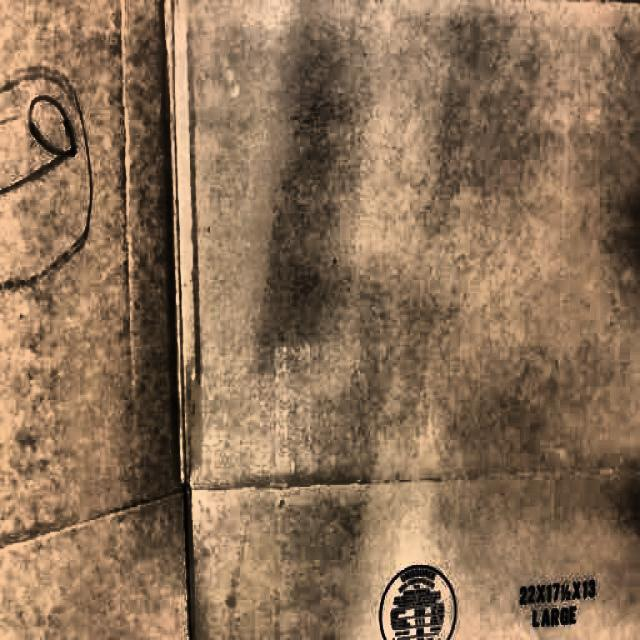cardboard: (7, 12, 632, 628)
